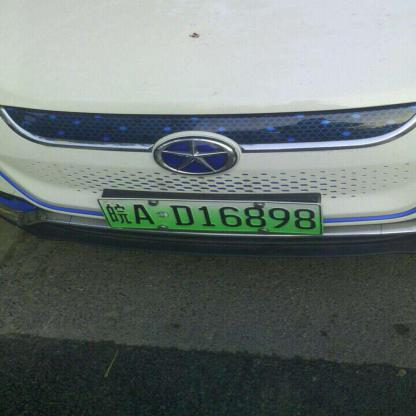lp: (96, 198, 324, 234)
